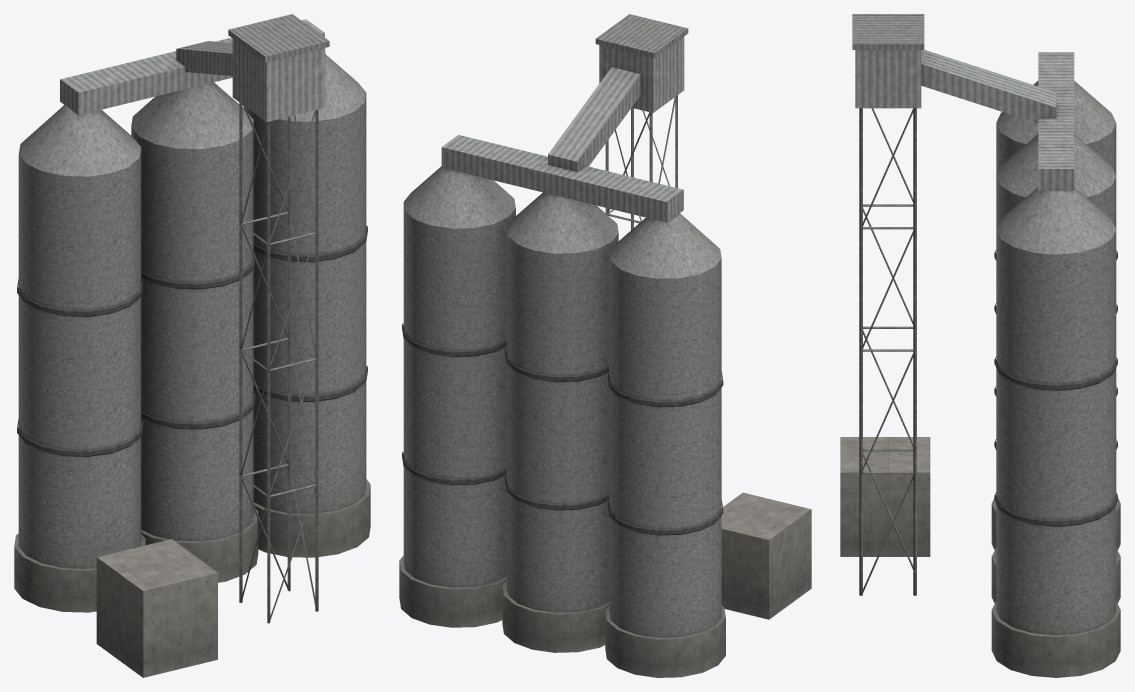
File: silos.glb
3 renders of one model, left to right at view 1: azimuth 30°, elevation 25°; view 2: azimuth 150°, elevation 25°; view 3: azimuth 270°, elevation 25°, orthographic. The views are drawn at different scales.
Visible parts, largest first — view 1: silos; view 2: silos; view 3: silos.
Part boxes in pixels (x1,y1,x2,y2): silos: (14, 14, 370, 677); silos: (399, 14, 811, 677); silos: (840, 14, 1120, 677).
Bounding box in the file's own units: 12.7 × 20.9 × 9.35.
Materials: 1 (1 with a texture image).
